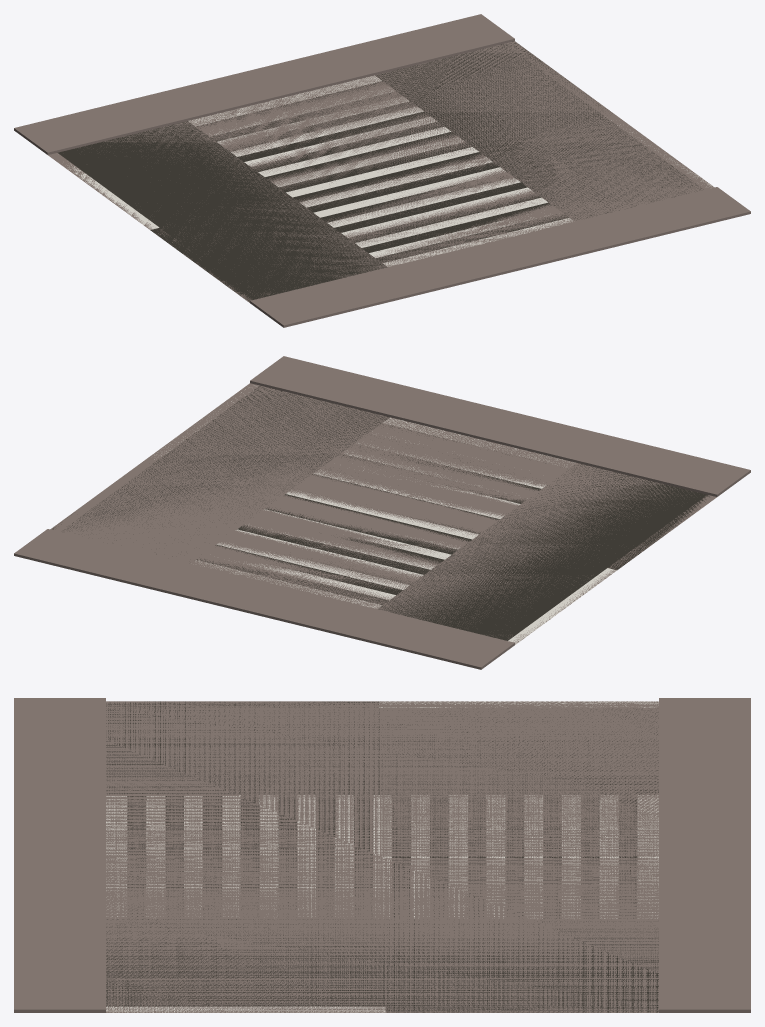
File: Env_2lane_Crosswalk.fbx
3 renders of one model, top to bottom at view 1: azimuth 30°, elevation 25°; view 2: azimuth 150°, elevation 25°; view 3: azimuth 270°, elevation 25°, orthographic. The views are drawn at different scales.
Visible parts, largest first — view 1: Env_2lane_Crosswalk; view 2: Env_2lane_Crosswalk; view 3: Env_2lane_Crosswalk.
Boxes of the visible parts, box(x1,y1,x2,y2) form: Env_2lane_Crosswalk: box(14, 14, 750, 327); Env_2lane_Crosswalk: box(14, 356, 750, 669); Env_2lane_Crosswalk: box(14, 698, 750, 1012).
Size of the model in its own units: 2000 by 10 by 2000.
